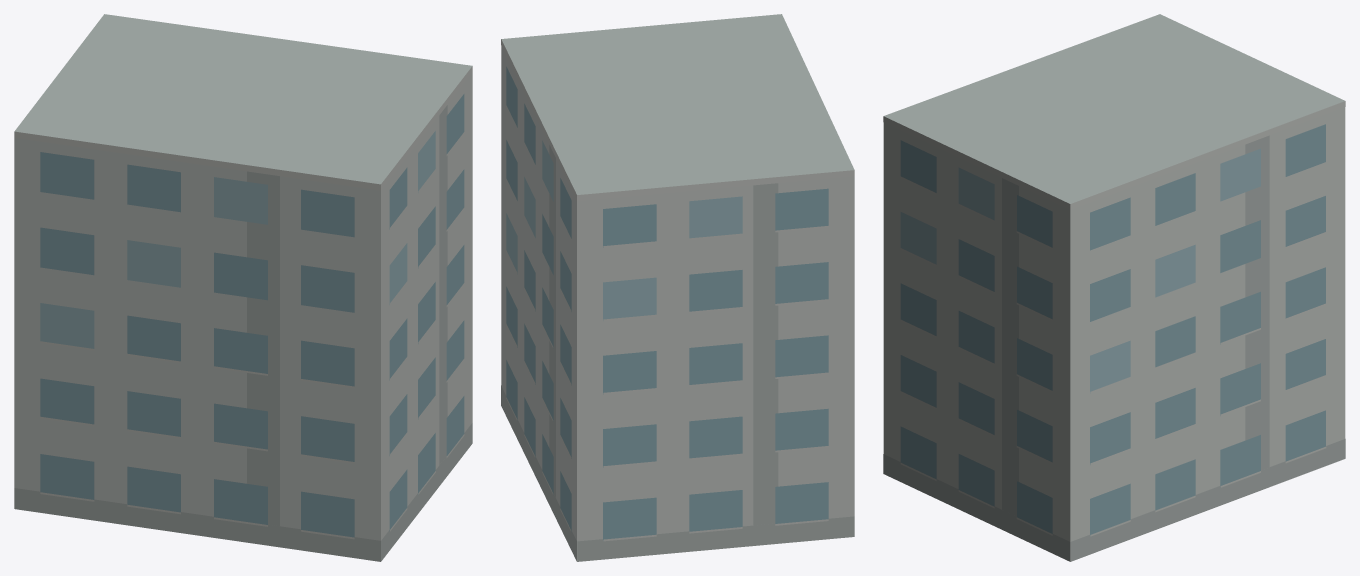
File: survey-upis-32951817.glb
3 renders of one model, left to right at view 1: azimuth 30°, elevation 25°; view 2: azimuth 150°, elevation 25°; view 3: azimuth 270°, elevation 25°, orthographic. The views are drawn at different scales.
Parts seen in each view (by area): view 1: survey-upis-32951817.tmp; view 2: survey-upis-32951817.tmp; view 3: survey-upis-32951817.tmp.
Part boxes in pixels (x1,y1,x2,y2): survey-upis-32951817.tmp: [14, 14, 472, 561]; survey-upis-32951817.tmp: [501, 14, 854, 561]; survey-upis-32951817.tmp: [883, 14, 1345, 561].
Bounding box in the file's own units: 16.42 × 14.4 × 16.86.
